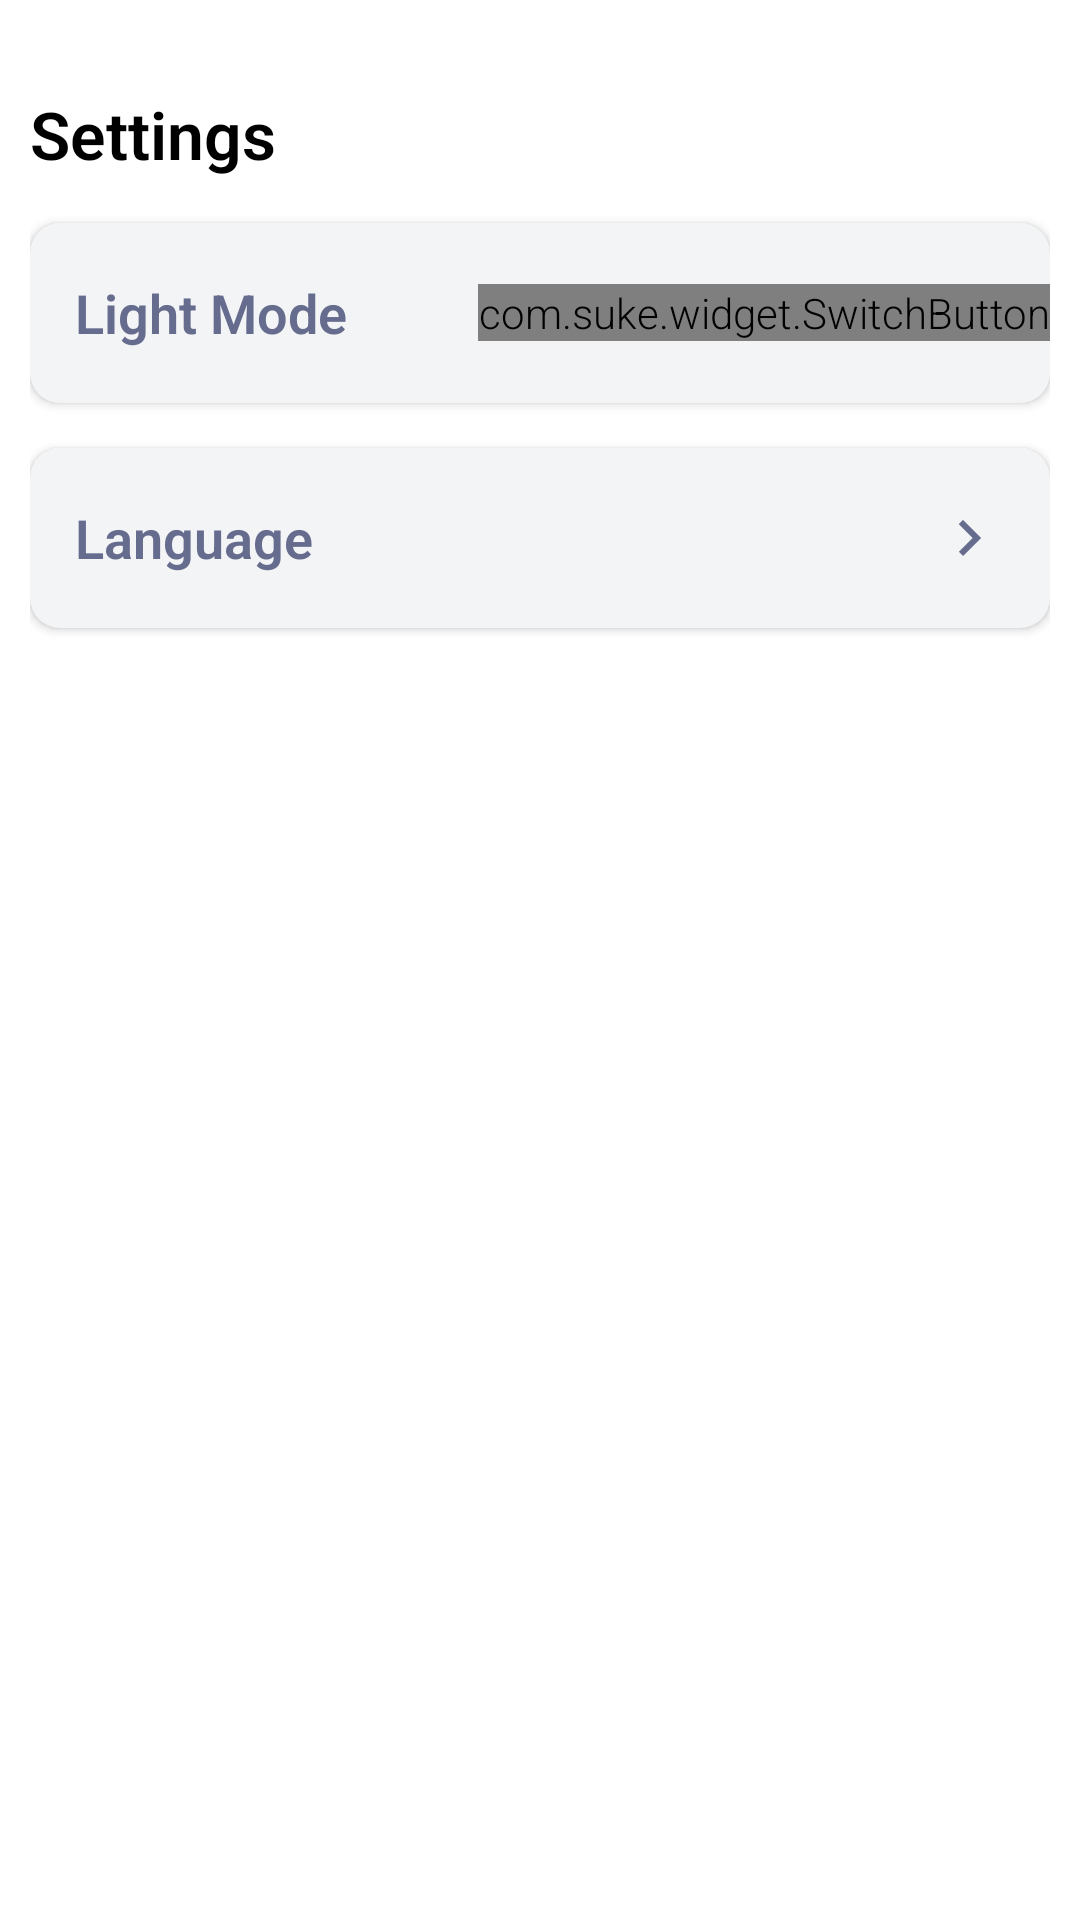

Icon bounding boxes for this 1080 × 1920 phone screenshot, format (x1, y1, x2, y2):
keyboard arrow right: (959, 520, 981, 556)
